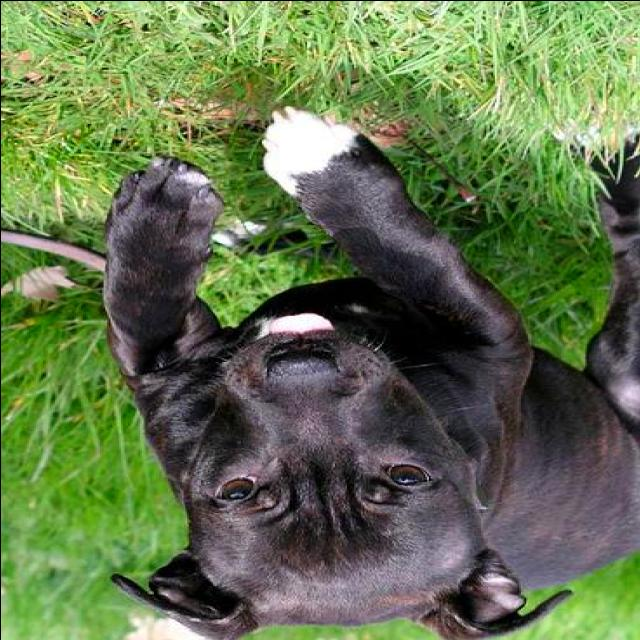staffordshire_bullterrier: (96, 98, 634, 638)
